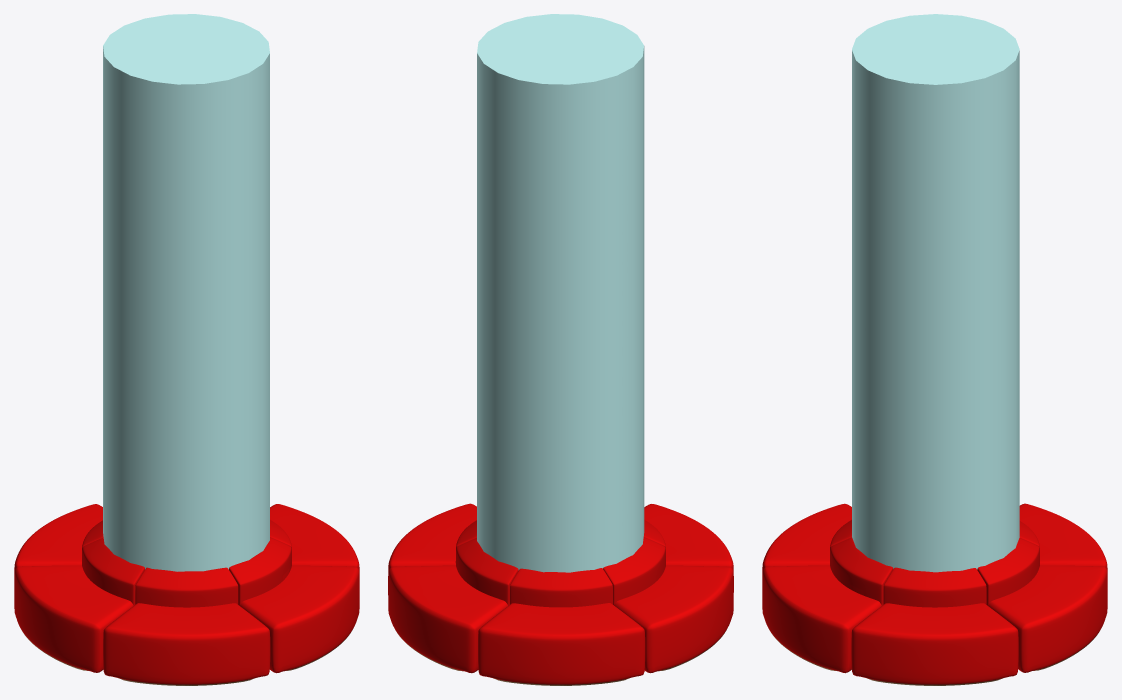
Rendered from couch.fbx.
The picture shows the model from 3 angles, left to right: view 1: azimuth 30°, elevation 25°; view 2: azimuth 150°, elevation 25°; view 3: azimuth 270°, elevation 25°; orthographic projection.
Visible parts, largest first — view 1: all_in:polySurface1, all_in:polySurface7; view 2: all_in:polySurface1, all_in:polySurface7; view 3: all_in:polySurface1, all_in:polySurface7.
Boxes of the visible parts, <box> form: all_in:polySurface1: <box>103,14,269,571</box>; all_in:polySurface7: <box>14,504,359,685</box>; all_in:polySurface1: <box>477,14,644,572</box>; all_in:polySurface7: <box>388,503,733,685</box>; all_in:polySurface1: <box>852,14,1019,572</box>; all_in:polySurface7: <box>762,503,1107,685</box>.
Size of the model in its own units: 14.71 by 26.7 by 14.73.
Materials: 4 (1 with a texture image).
